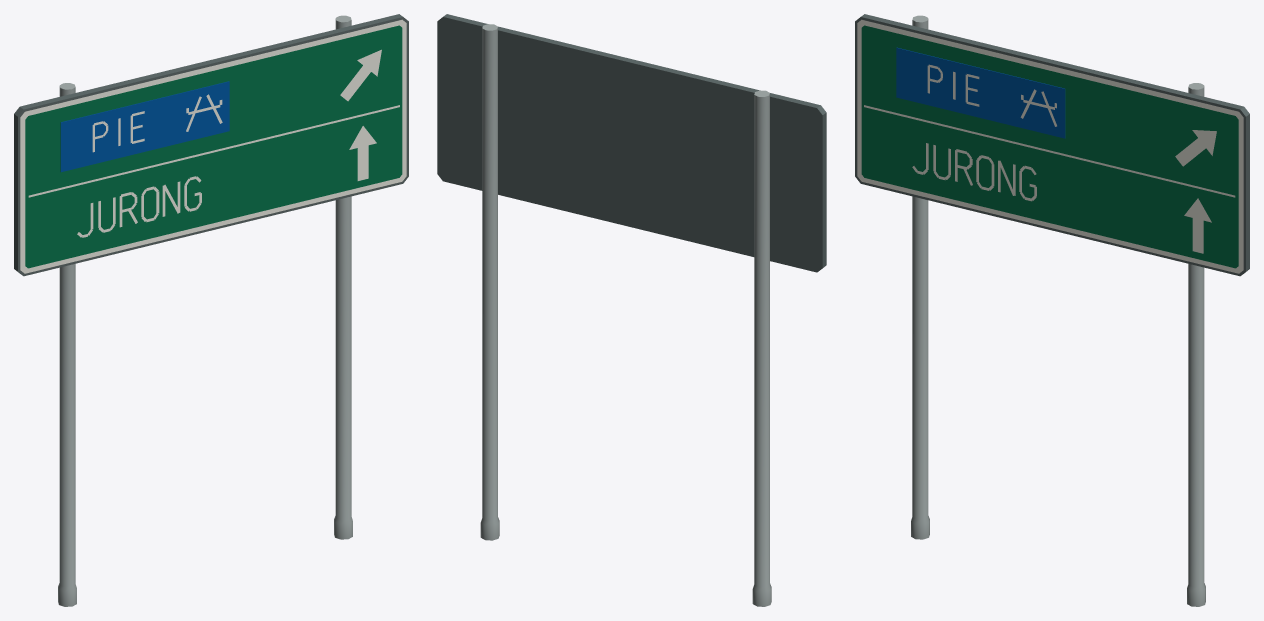
File: sg-direction-sign.glb
3 views of the same model, side by side, from view 1: azimuth 30°, elevation 25°; view 2: azimuth 150°, elevation 25°; view 3: azimuth 330°, elevation 25° (orthographic).
Visible parts, largest first — view 1: direction_board, blue_expressway_inset, post_right, post_left; view 2: direction_board, post_right, post_left; view 3: direction_board, blue_expressway_inset, post_left, post_right.
Part boxes in pixels (left/top/right/bottom): direction_board: left=14, top=14, right=408, bottom=276; blue_expressway_inset: left=60, top=81, right=229, bottom=172; post_right: left=334, top=15, right=352, bottom=539; post_left: left=58, top=83, right=76, bottom=606; direction_board: left=437, top=14, right=826, bottom=272; post_right: left=480, top=24, right=499, bottom=540; post_left: left=752, top=90, right=771, bottom=606; direction_board: left=855, top=14, right=1249, bottom=276; blue_expressway_inset: left=896, top=47, right=1065, bottom=138; post_left: left=911, top=15, right=929, bottom=539; post_right: left=1187, top=83, right=1205, bottom=606.
Bounding box in the file's own units: 2.55 × 3.22 × 0.1579.
